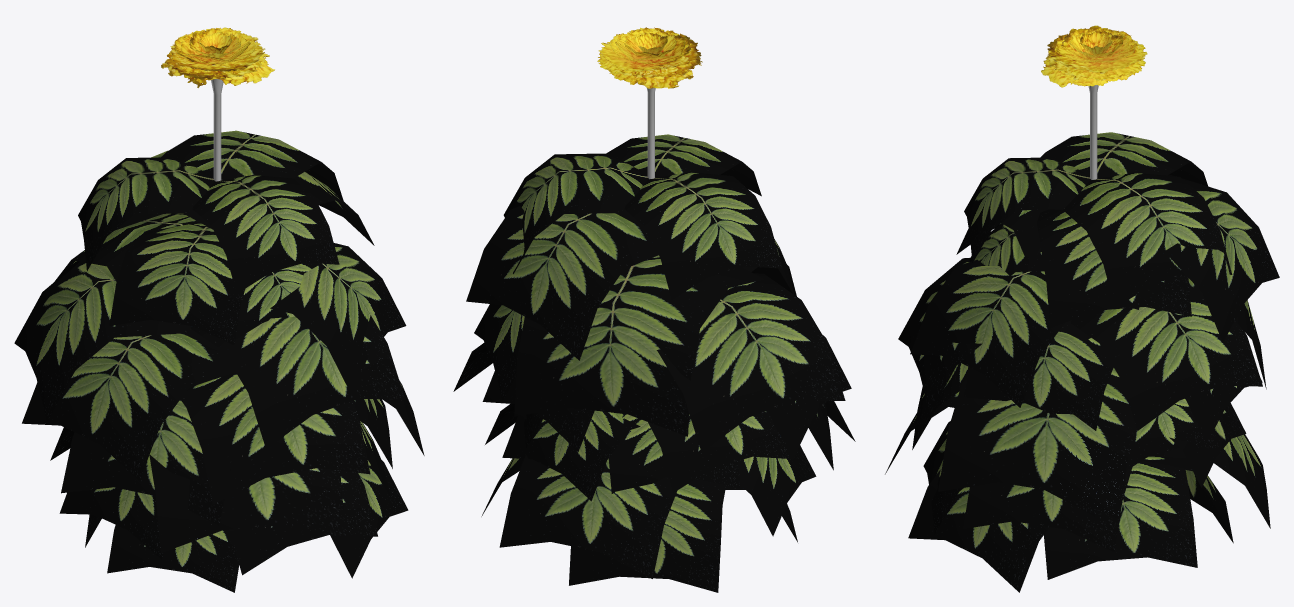
The model's file is flower.obj.
3 views of the same model, side by side, from view 1: azimuth 30°, elevation 25°; view 2: azimuth 150°, elevation 25°; view 3: azimuth 270°, elevation 25° (orthographic).
Parts seen in each view (by area): view 1: Cylinder.001; view 2: Cylinder.001; view 3: Cylinder.001.
Part boxes in pixels (x1=…): Cylinder.001: x1=14, y1=27, x2=424, y2=592; Cylinder.001: x1=453, y1=27, x2=855, y2=592; Cylinder.001: x1=885, y1=25, x2=1279, y2=592.
Bounding box in the file's own units: 0.4862 × 0.6447 × 0.4538.
5 materials, 4 textured.
